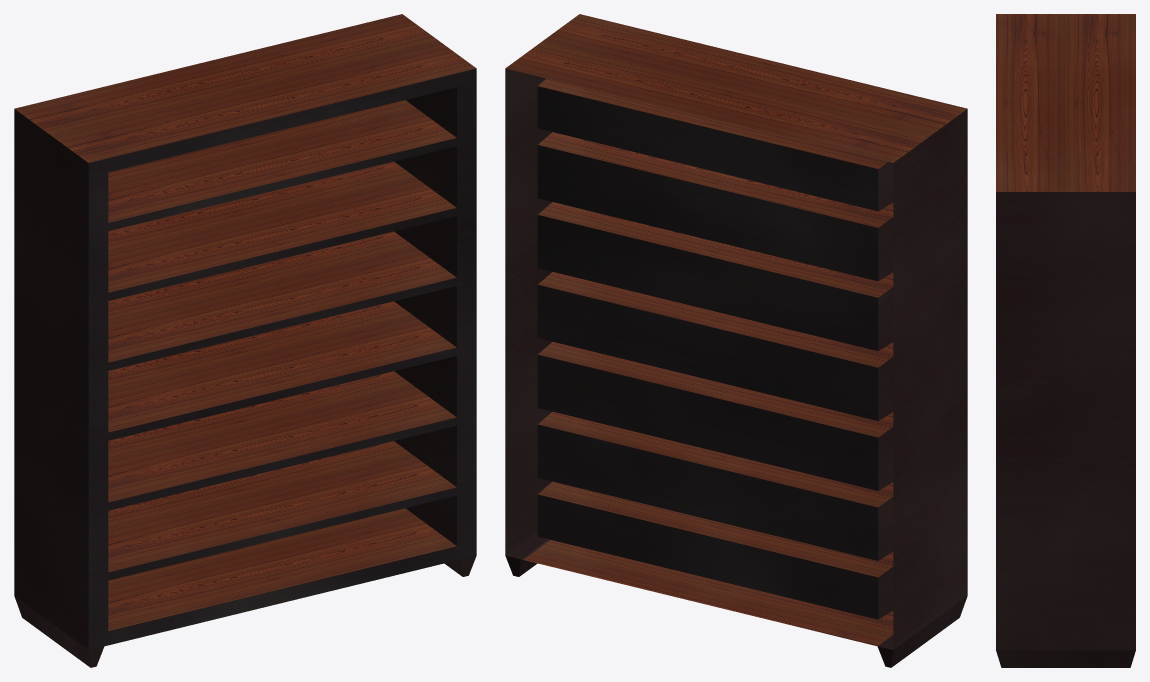
The model's file is skaf.fbx.
3 renders of one model, left to right at view 1: azimuth 30°, elevation 25°; view 2: azimuth 150°, elevation 25°; view 3: azimuth 270°, elevation 25°, orthographic. The views are drawn at different scales.
Parts seen in each view (by area): view 1: skaf; view 2: skaf; view 3: skaf.
Part boxes in pixels (x1=…): skaf: x1=14, y1=14, x2=476, y2=667; skaf: x1=505, y1=14, x2=967, y2=667; skaf: x1=996, y1=14, x2=1135, y2=667.
Bounding box in the file's own units: 77.63 × 97.15 × 25.77.
1 material, 1 textured.
